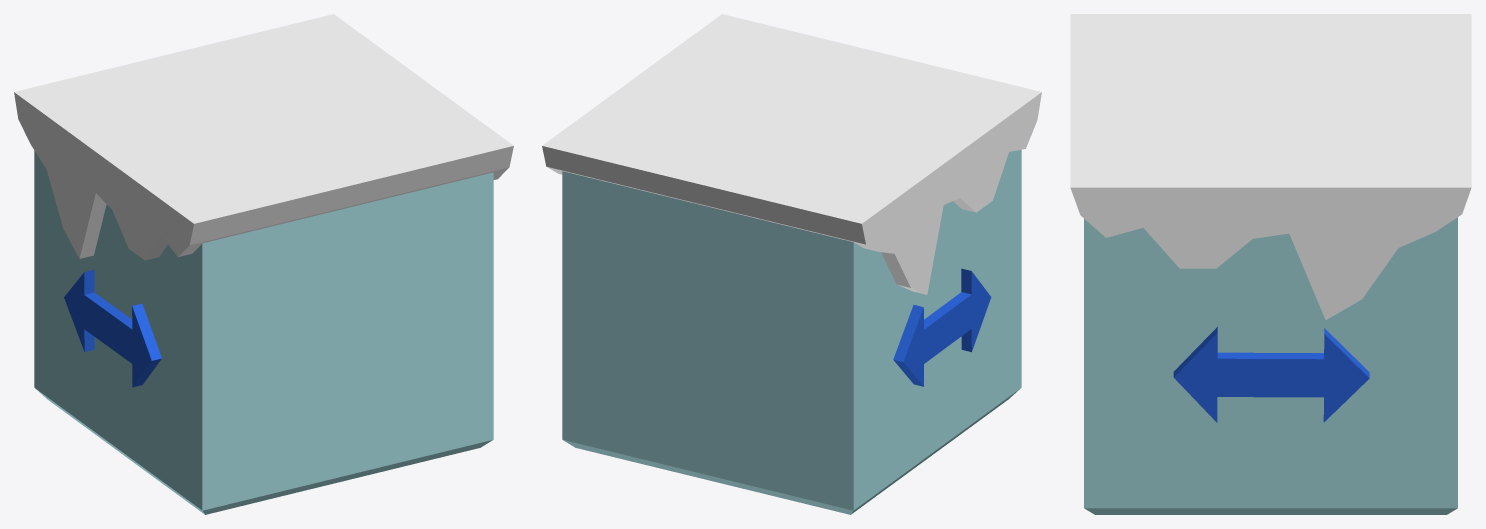
The model's file is HorizontalCube.fbx.
3 renders of one model, left to right at view 1: azimuth 30°, elevation 25°; view 2: azimuth 150°, elevation 25°; view 3: azimuth 270°, elevation 25°, orthographic. The views are drawn at different scales.
Visible parts, largest first — view 1: Cube; view 2: Cube; view 3: Cube.
Boxes of the visible parts, box(x1,y1,x2,y2) form: Cube: box(14, 14, 513, 514); Cube: box(542, 14, 1041, 514); Cube: box(1070, 14, 1471, 514).
Size of the model in its own units: 220 by 200 by 214.
